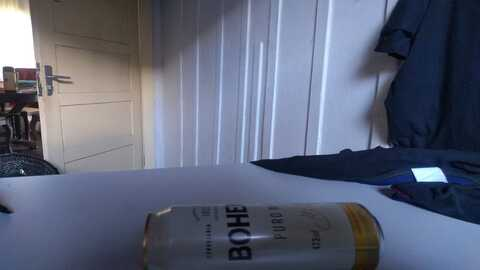bohemia: (136, 201, 384, 270)
